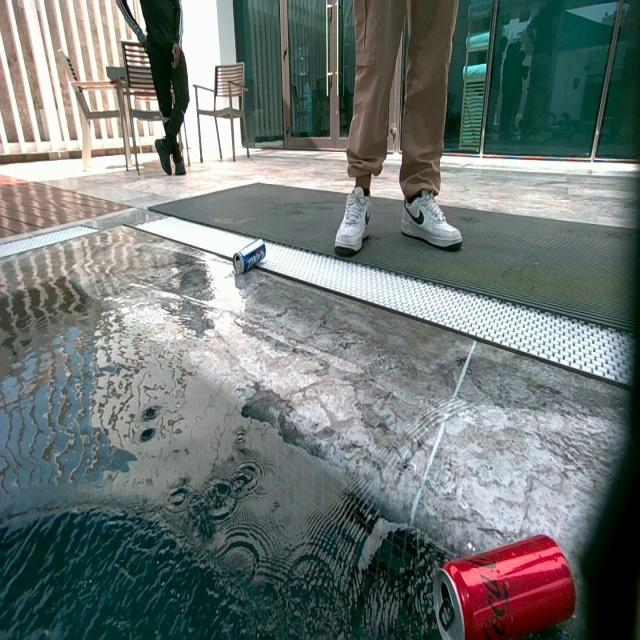Cans: (428, 532, 578, 638), (234, 238, 268, 276)
